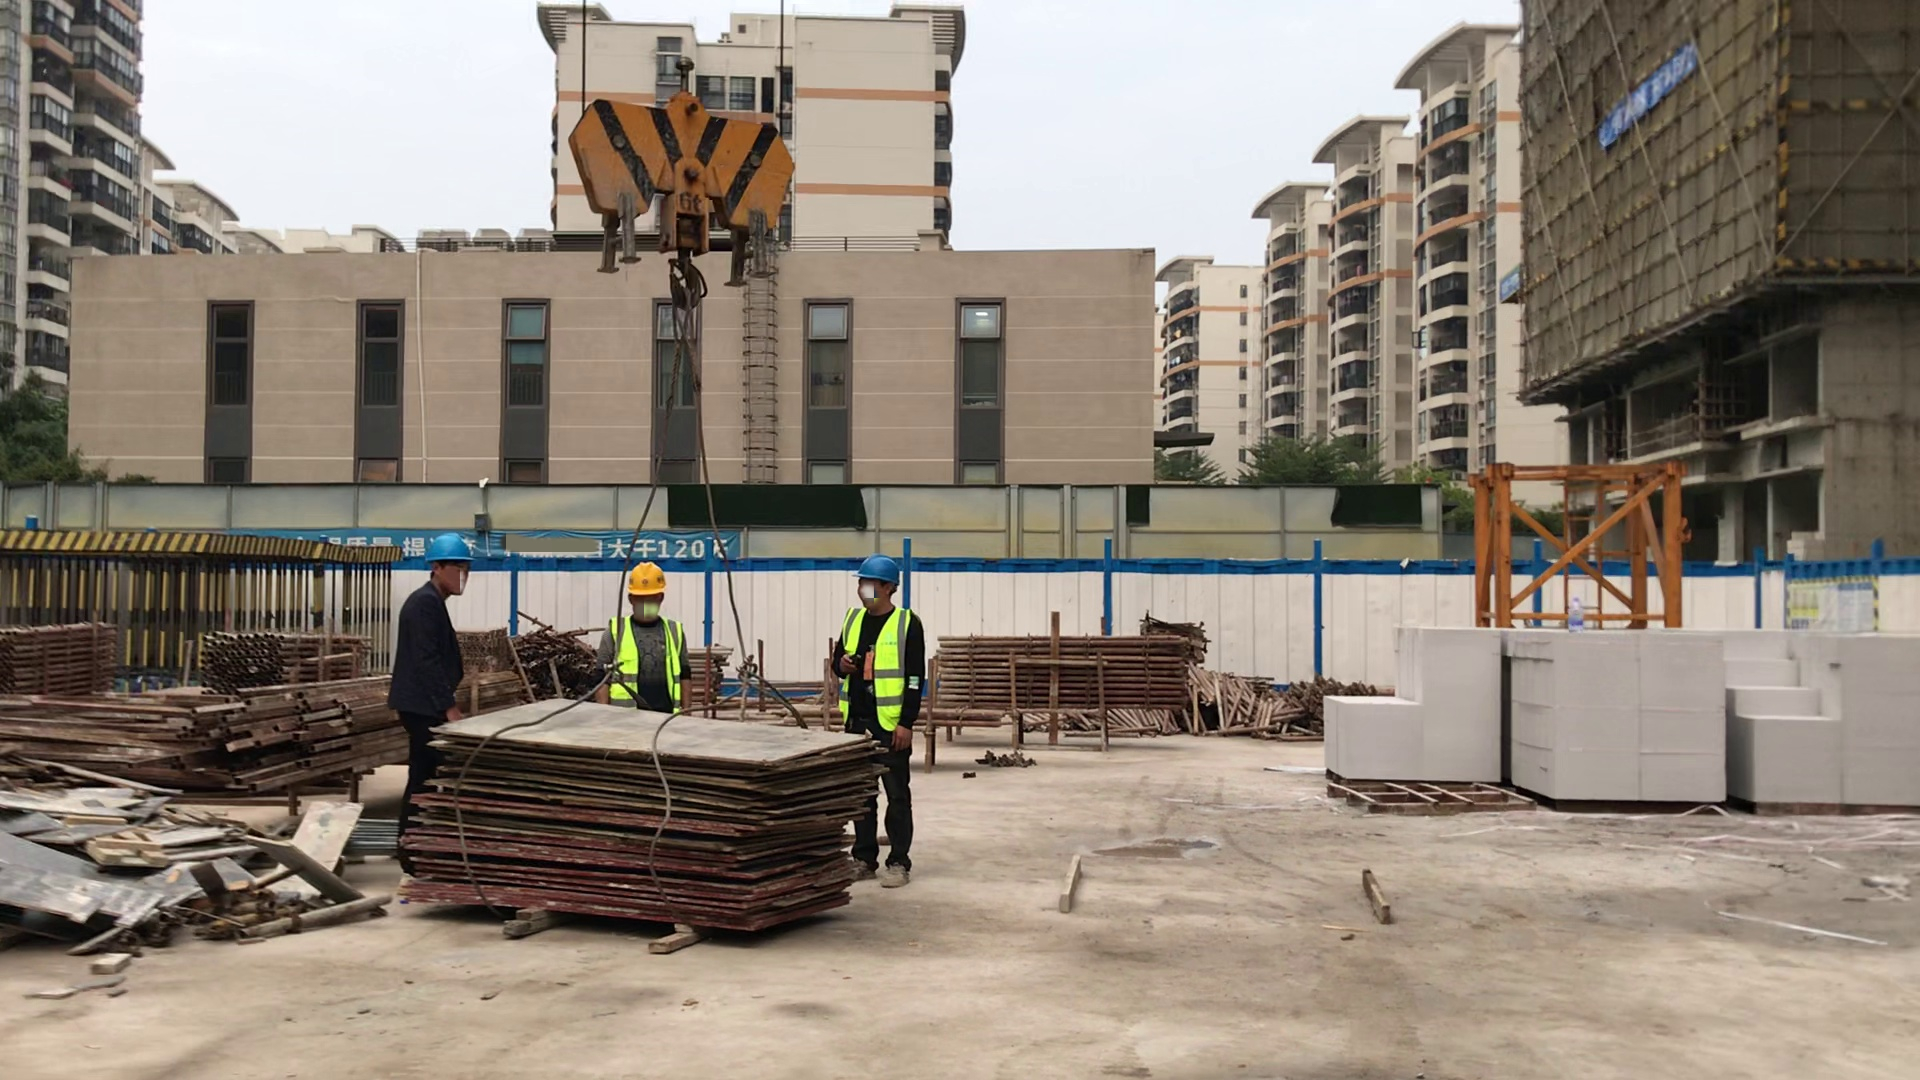board: (413, 684, 877, 945)
helmet: (853, 554, 903, 586), (422, 534, 472, 561), (622, 563, 666, 593)
hook: (562, 90, 788, 309)
person: (841, 550, 928, 886), (389, 535, 470, 875), (595, 548, 707, 715)
scaffold: (936, 637, 1185, 723), (199, 626, 369, 681), (13, 623, 115, 694), (689, 648, 721, 715), (473, 633, 515, 678)
slogan: (346, 527, 741, 562), (1604, 47, 1694, 150), (1784, 584, 1883, 631)
vest: (843, 606, 909, 729), (608, 614, 680, 702)
wood: (1324, 625, 1918, 816)
